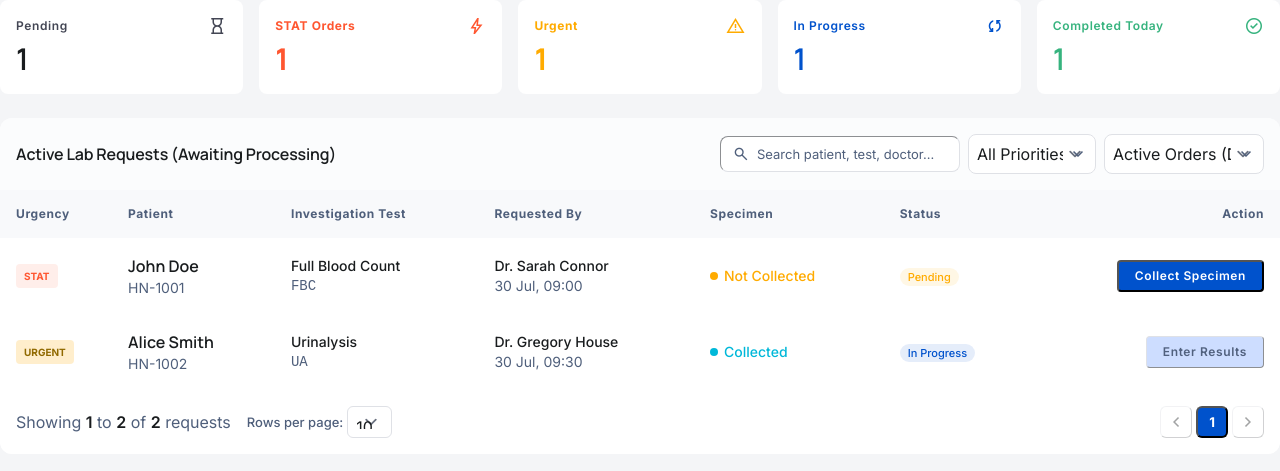
Test: LabRequestsPage Component › filters by status dropdown selection
This screenshot has width=1280, height=471.
Expected: the text "John Doe" is shown, [128,255,199,277]
Select "Pending Specimen" in the 2nd dropdown showing "Active Orders (Default)" at (1184,154), box [1104,134,1264,174]
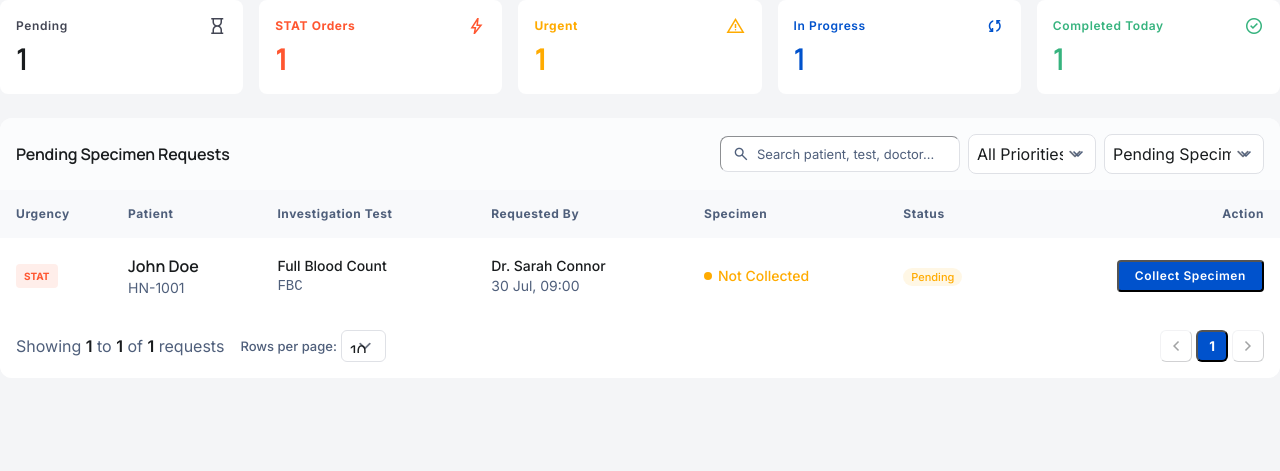
Expected: the text "John Doe" is shown, [128,255,199,277]
Expected: the text "Alice Smith" is gone
